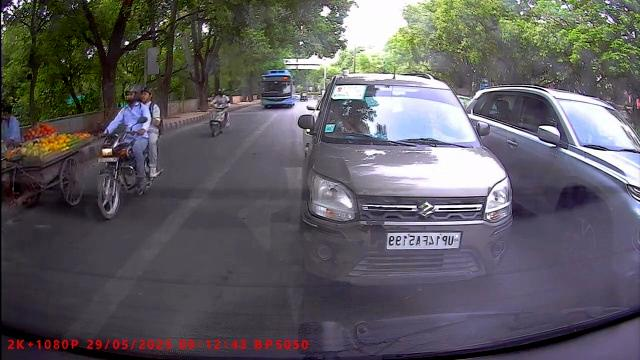passenger_with_helmet: (94, 83, 163, 222)
